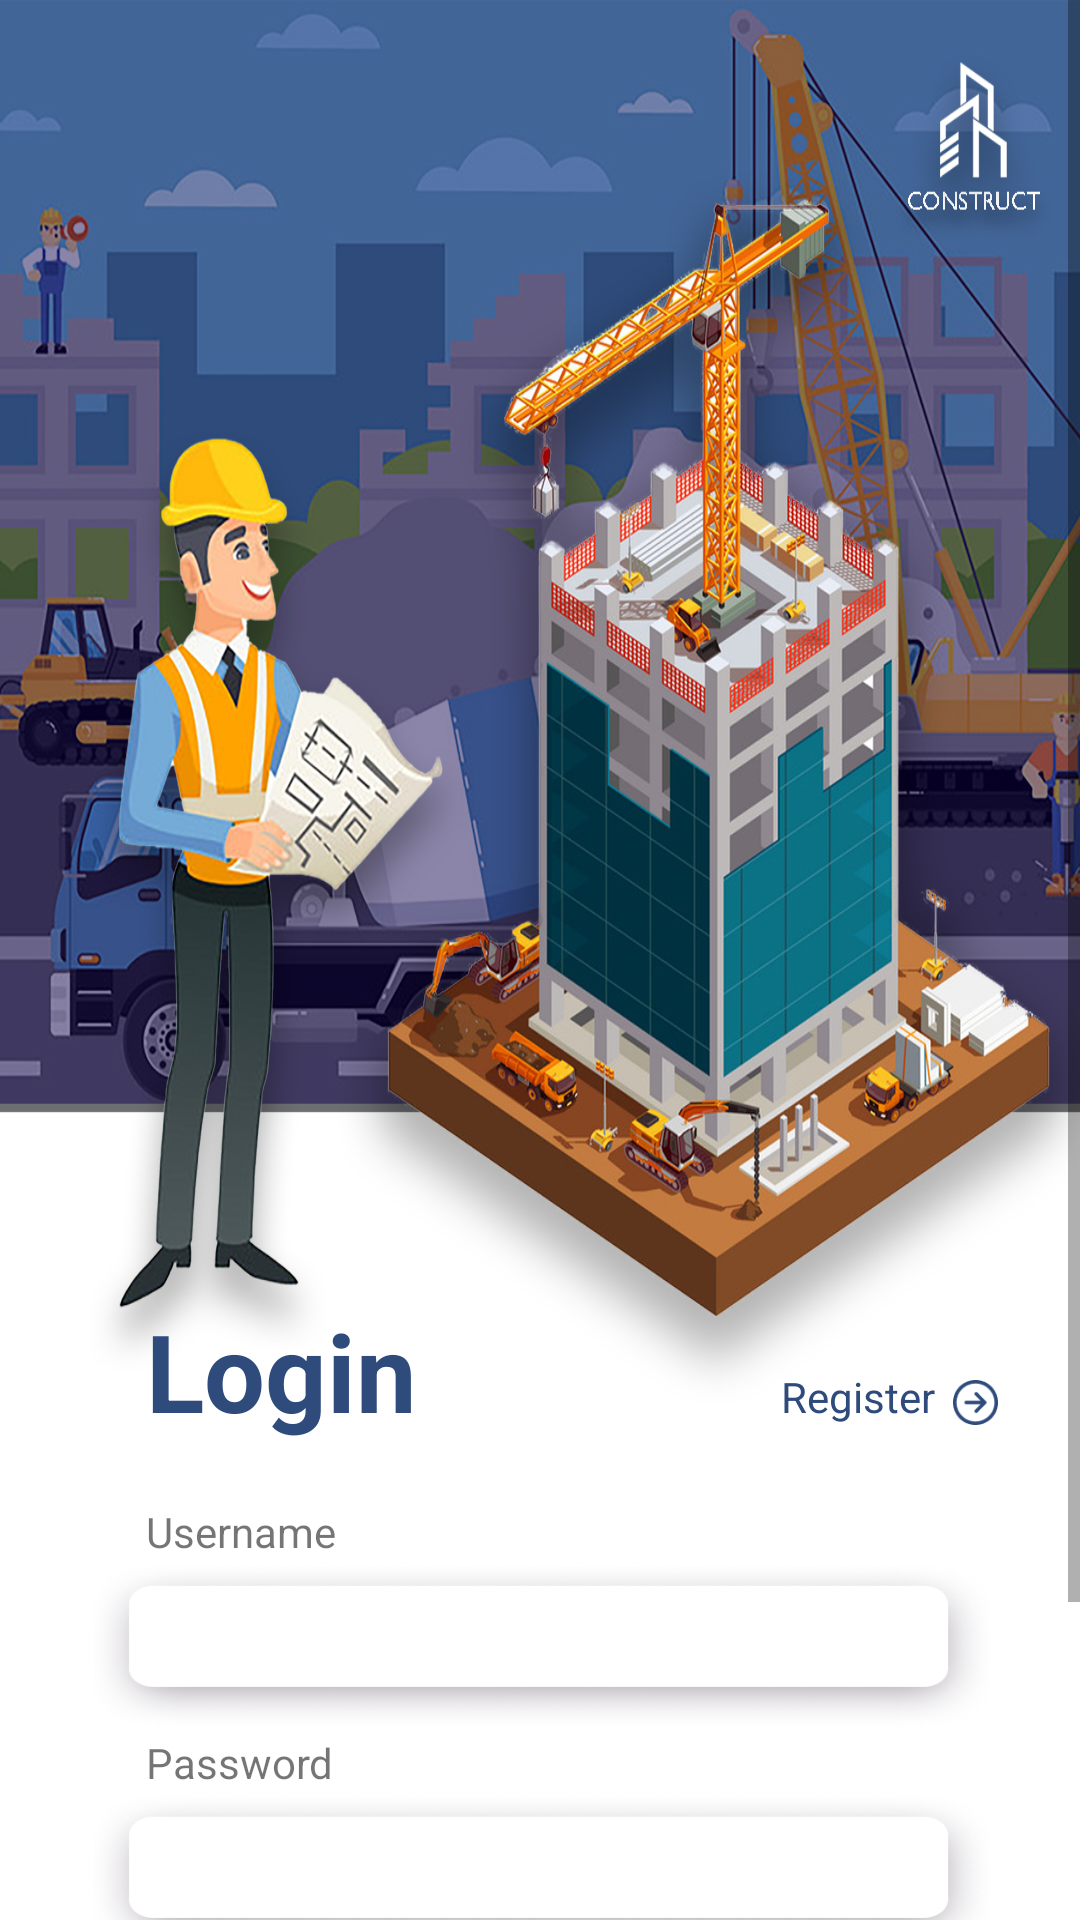

Where to tap for icons on this 1080px x 1920px app screen, as (x,y):
arrow: (975,1402)
